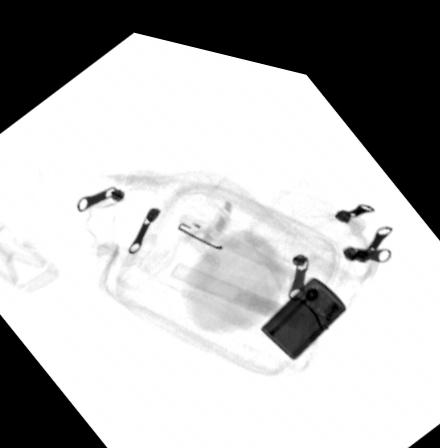Lighter: (260, 260, 347, 346)
